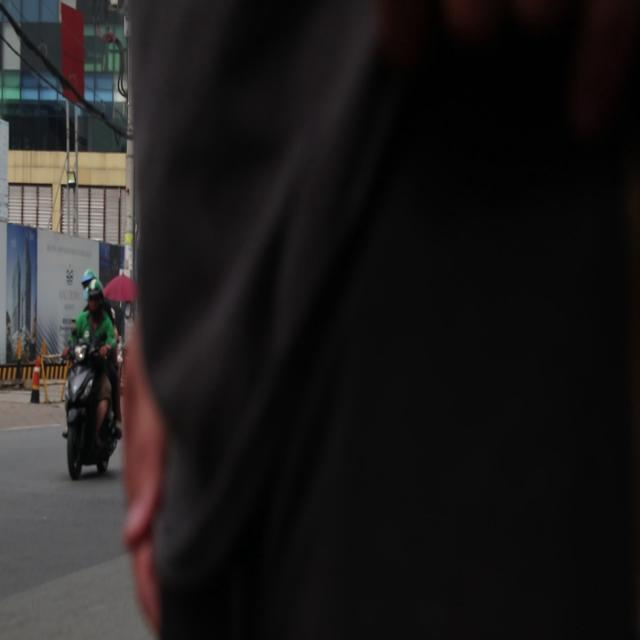motorbike: (57, 342, 119, 486)
